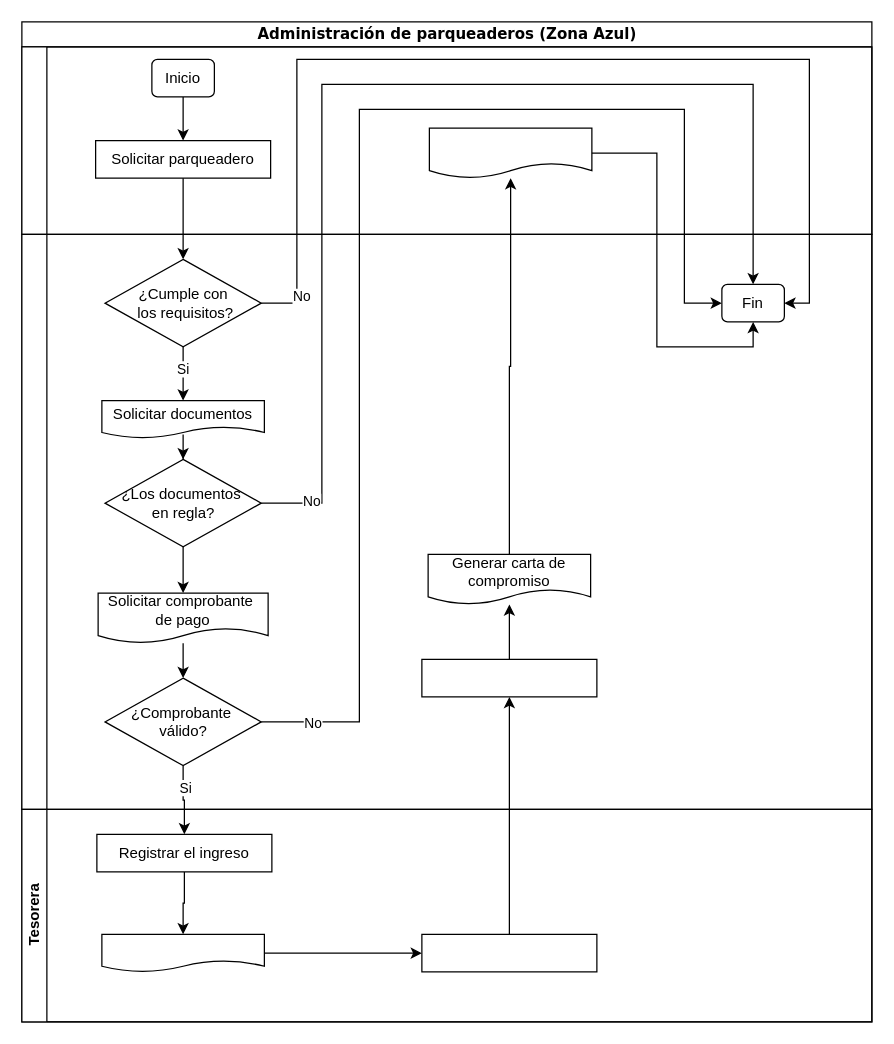
Image size: 894x1044. Some labels were removed from this diagram. The shapes that lost their labels are listed below. From the top down, each one's box as (x1, y1, x2, y2) in pixels, then its label:
(21, 46, 872, 234): Propietario/Inquilino
(428, 127, 592, 178): Recibir Comprobante de pago
(21, 233, 872, 809): Presidente
(421, 658, 597, 697): Asignar parqueadero
(101, 933, 264, 972): Generar orden de pago
(421, 933, 597, 972): Guardar foto de la orden de pago
